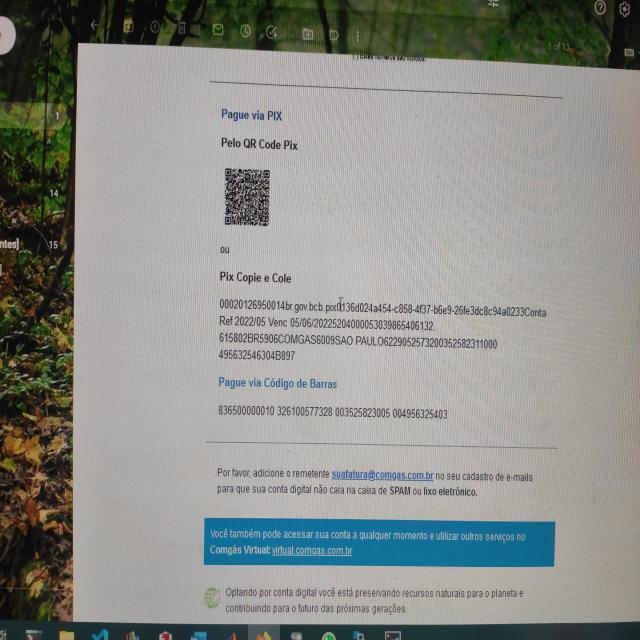qrcode: (226, 169, 271, 227)
